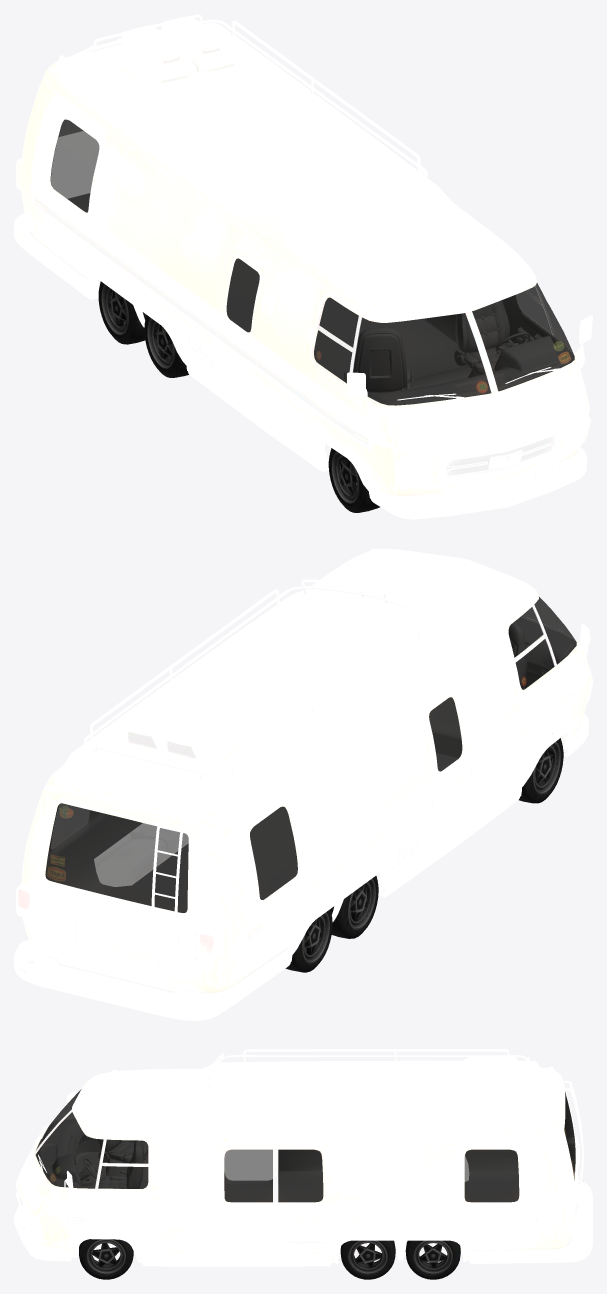
File: gmc.glb
3 views of the same model, one above another, from view 1: azimuth 30°, elevation 25°; view 2: azimuth 150°, elevation 25°; view 3: azimuth 270°, elevation 25° (orthographic). The views are drawn at different scales.
Visible parts, largest first — view 1: Object_16_0, Object_24_0, Object_10_0, Object_14_0, Object_8_0, wheel_fl_R0_9, wheel_fl_R2_7, wheel_fl_R1_8; view 2: Object_16_0, Object_24_0, Object_10_0, wheel_fl_R1_8, wheel_fl_R2_7, wheel_fl_R0_9, Object_14_0; view 3: Object_16_0, Object_24_0, Object_10_0, wheel_fl_L0_9, wheel_fl_L1_8, wheel_fl_L2_7, Object_8_0, Object_14_0.
Boxes of the visible parts, x1,y1,x2,y2 form: Object_16_0: [14, 14, 592, 519]; Object_24_0: [50, 119, 574, 405]; Object_10_0: [50, 149, 574, 405]; Object_14_0: [344, 327, 413, 392]; Object_8_0: [454, 300, 522, 375]; wheel_fl_R0_9: [98, 281, 146, 344]; wheel_fl_R2_7: [328, 448, 379, 512]; wheel_fl_R1_8: [144, 315, 188, 377]; Object_16_0: [14, 548, 592, 1020]; Object_24_0: [45, 597, 576, 912]; Object_10_0: [45, 617, 576, 912]; wheel_fl_R1_8: [330, 876, 378, 938]; wheel_fl_R2_7: [519, 738, 563, 803]; wheel_fl_R0_9: [285, 909, 332, 972]; Object_14_0: [508, 621, 527, 688]; Object_16_0: [14, 1049, 592, 1266]; Object_24_0: [35, 1089, 575, 1202]; Object_10_0: [36, 1092, 575, 1202]; wheel_fl_L0_9: [405, 1240, 460, 1279]; wheel_fl_L1_8: [340, 1240, 395, 1279]; wheel_fl_L2_7: [79, 1239, 133, 1279]; Object_8_0: [98, 1140, 144, 1188]; Object_14_0: [97, 1139, 148, 1163].
Size of the model in its own units: 2.73 by 2.7 by 7.9.
Materials: 4 (3 with a texture image).
